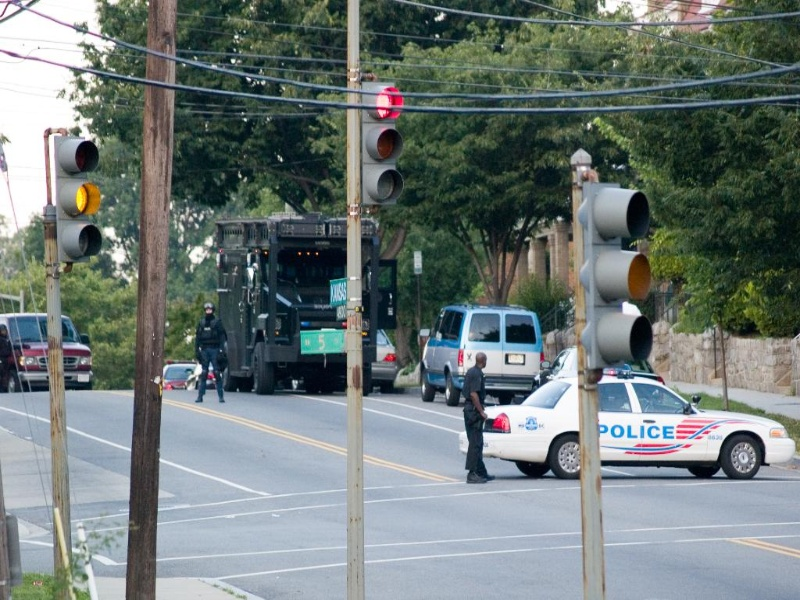red_light: (359, 80, 426, 137)
yellow_light: (43, 180, 115, 222)
